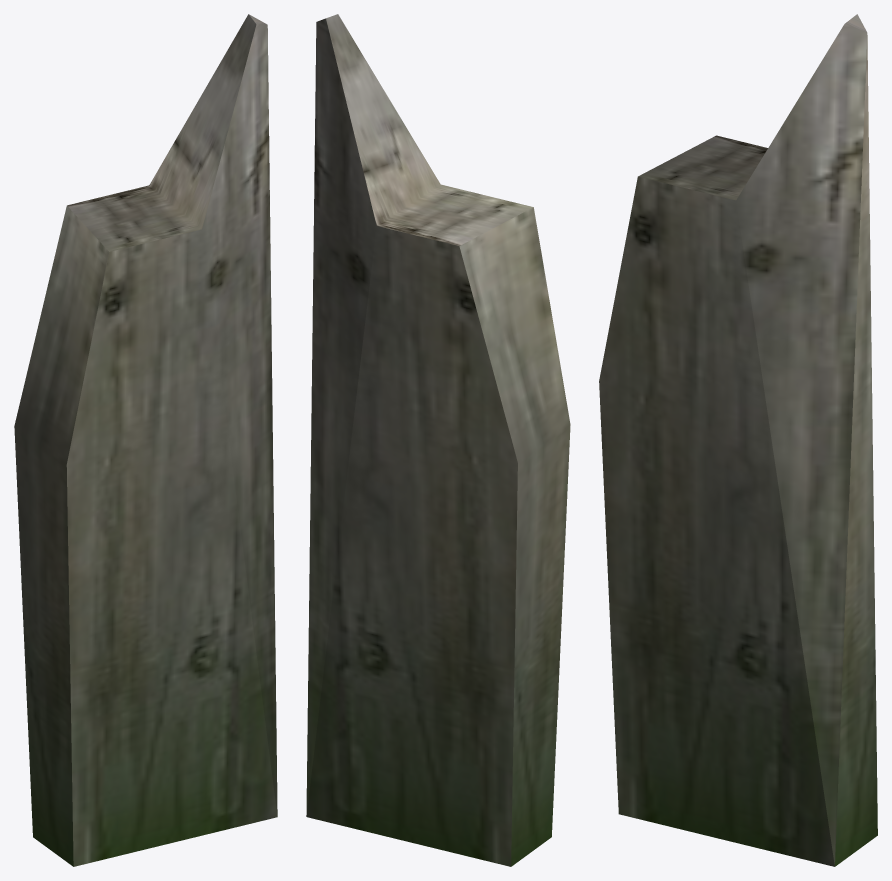
Rendered from pir_m_prp_fnc_woodPost_burned.fbx.
3 renders of one model, left to right at view 1: azimuth 30°, elevation 25°; view 2: azimuth 150°, elevation 25°; view 3: azimuth 330°, elevation 25°, orthographic. The views are drawn at different scales.
Visible parts, largest first — view 1: lod_high; view 2: lod_high; view 3: lod_high.
Boxes of the visible parts, x1,y1,x2,y2 form: lod_high: [14, 14, 277, 866]; lod_high: [306, 14, 570, 866]; lod_high: [599, 14, 877, 866].
Bounding box in the file's own units: 143 × 473 × 63.6.
1 material, 1 textured.
